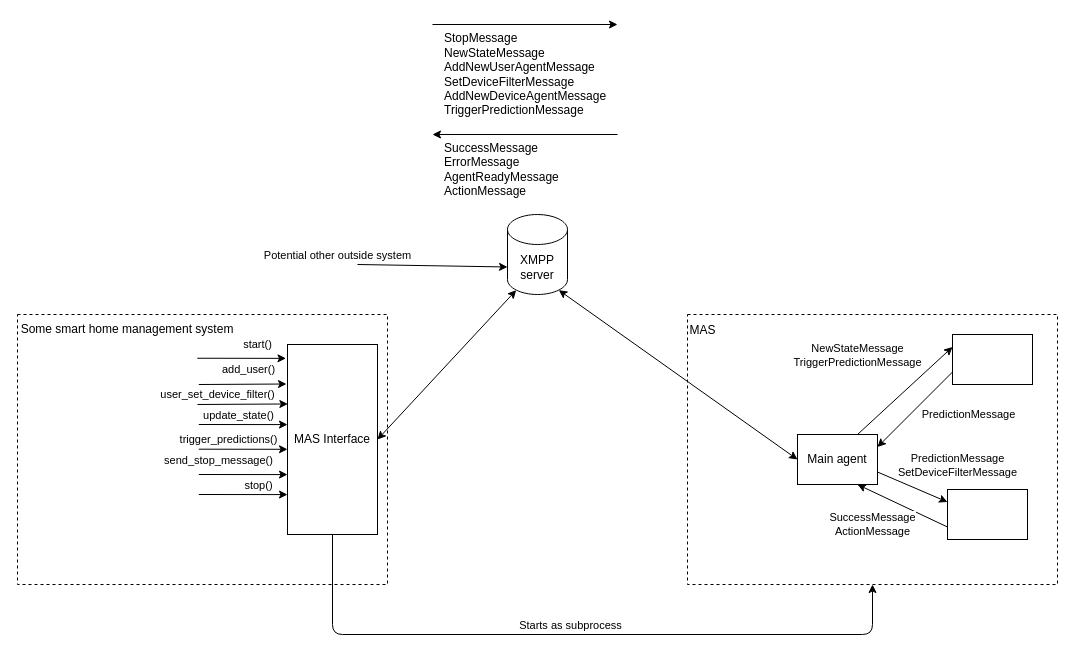
The diagram is 1075 pixels wide and 660 high, and some of its shapes have lost their labels. The box of each missing label's shape, as (x1, y1, x2, y2) in pixels:
Device agent: (952, 334, 1032, 384)
User agent: (946, 488, 1028, 540)
